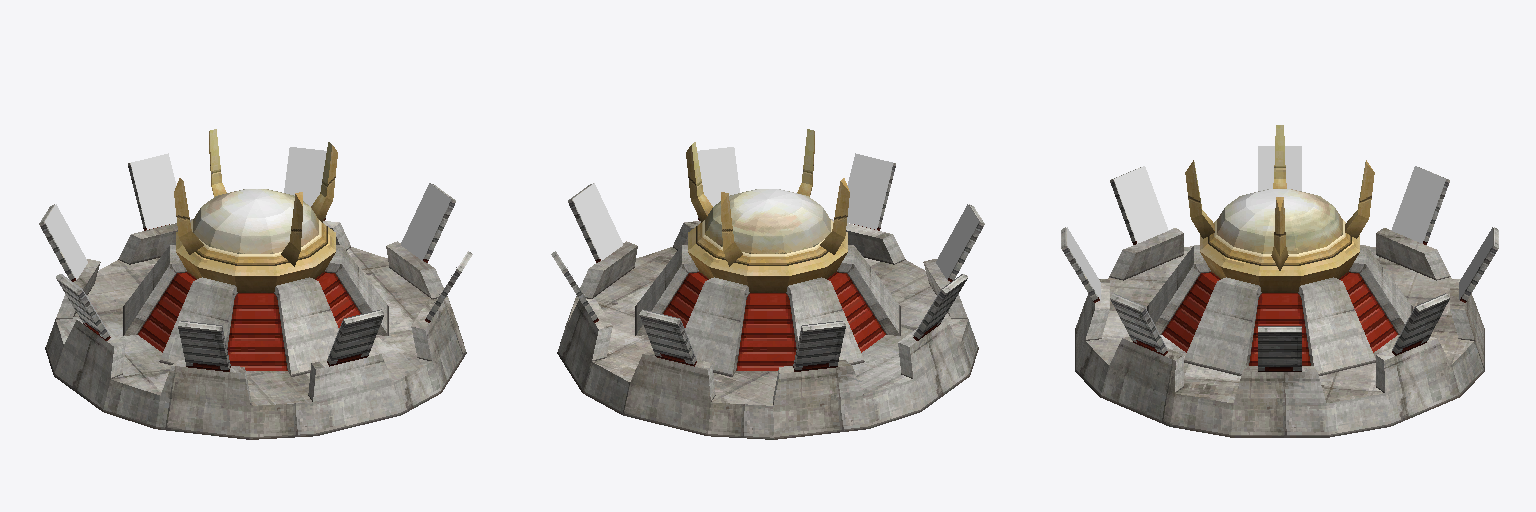
The picture shows the model from 3 angles: view 1: azimuth 30°, elevation 25°; view 2: azimuth 150°, elevation 25°; view 3: azimuth 270°, elevation 25°; orthographic projection.
Parts seen in each view (by area): view 1: polygon1, polygon3, polygon4, polygon2, polygon0; view 2: polygon1, polygon3, polygon4, polygon2, polygon0; view 3: polygon1, polygon3, polygon4, polygon2, polygon0.
Part boxes in pixels (x1,y1,x2,y2): polygon1: (45, 219, 466, 439); polygon3: (138, 129, 360, 370); polygon4: (123, 245, 388, 376); polygon2: (45, 147, 456, 365); polygon0: (39, 163, 472, 371); polygon1: (557, 219, 978, 439); polygon3: (663, 129, 885, 370); polygon4: (635, 245, 900, 376); polygon2: (567, 147, 978, 365); polygon0: (551, 163, 984, 371); polygon1: (1075, 228, 1484, 437); polygon3: (1162, 125, 1397, 365); polygon4: (1147, 245, 1412, 375); polygon2: (1067, 146, 1492, 350); polygon0: (1061, 167, 1498, 371).
Size of the model in its own units: 864 by 413 by 864.
3 materials, 2 textured.